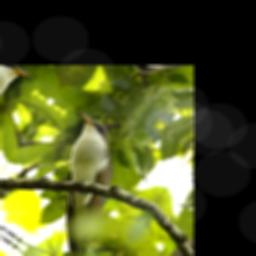Cuckoo: (5, 107, 156, 256)
